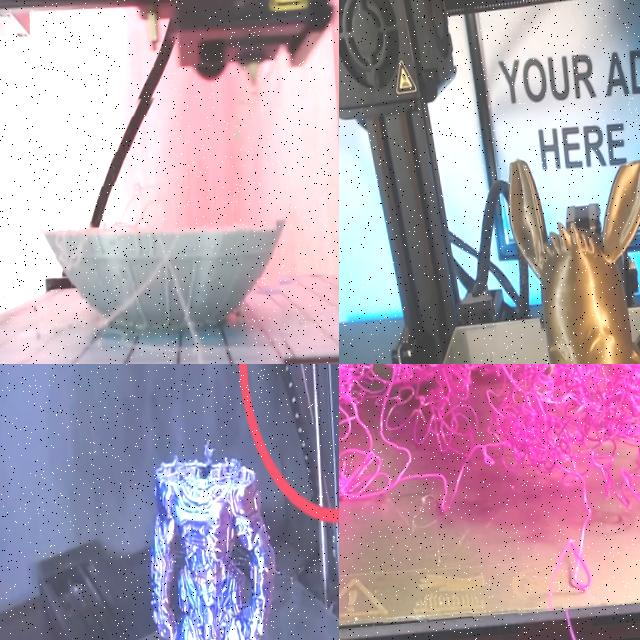spaghetti: (0, 81, 307, 364), (339, 364, 640, 640)
